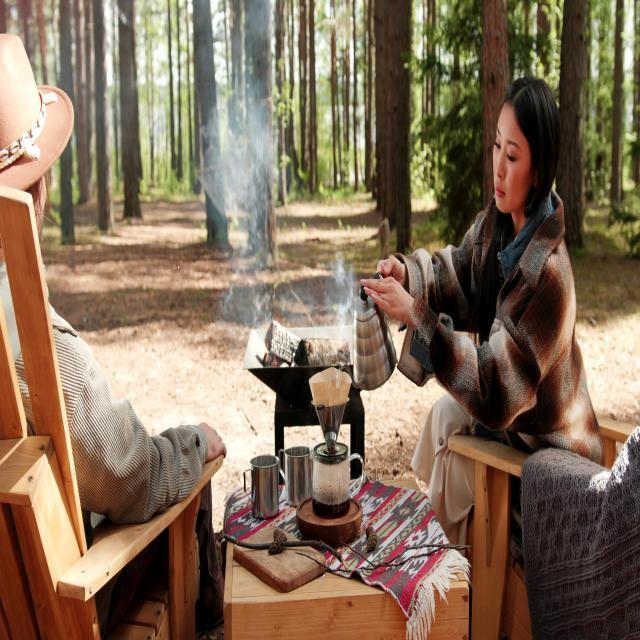Smoke: (169, 29, 298, 352)
